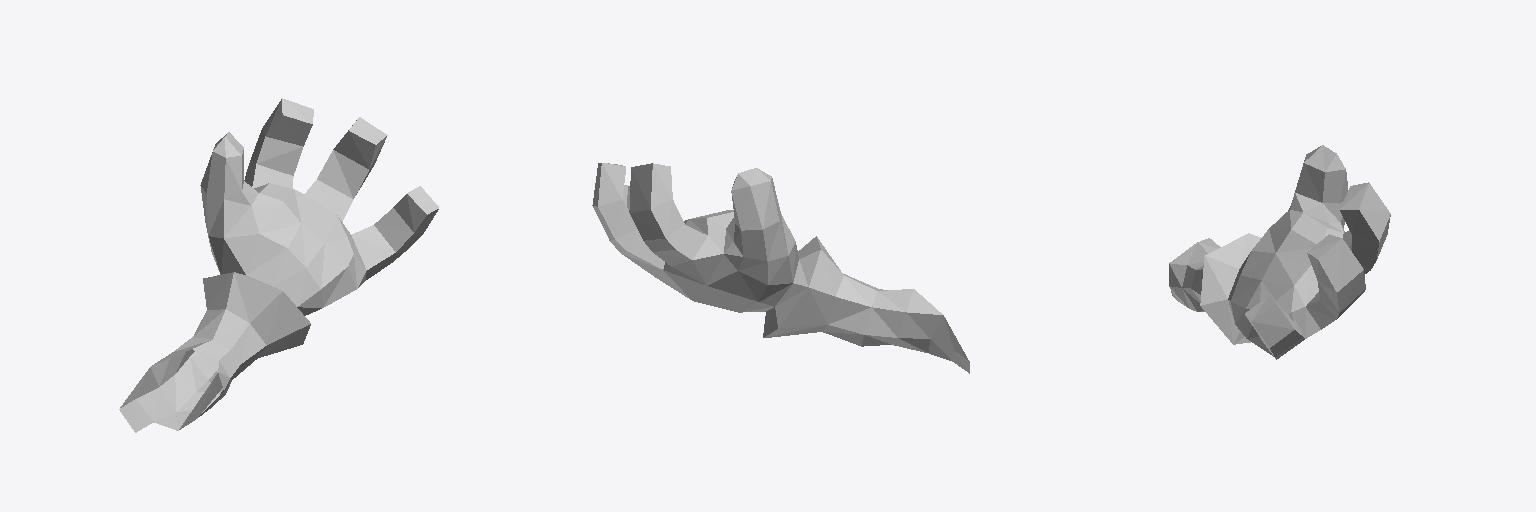
The model's file is hand_open.obj.
3 renders of one model, left to right at view 1: azimuth 30°, elevation 25°; view 2: azimuth 150°, elevation 25°; view 3: azimuth 270°, elevation 25°, orthographic.
Parts seen in each view (by area): view 1: lolMesh_heimerdinger; view 2: lolMesh_heimerdinger; view 3: lolMesh_heimerdinger.
Part boxes in pixels (x1,y1,x2,y2): lolMesh_heimerdinger: (119, 98, 438, 432); lolMesh_heimerdinger: (592, 163, 969, 373); lolMesh_heimerdinger: (1169, 145, 1390, 359).
Size of the model in its own units: 0.9927 by 0.605 by 0.5632.